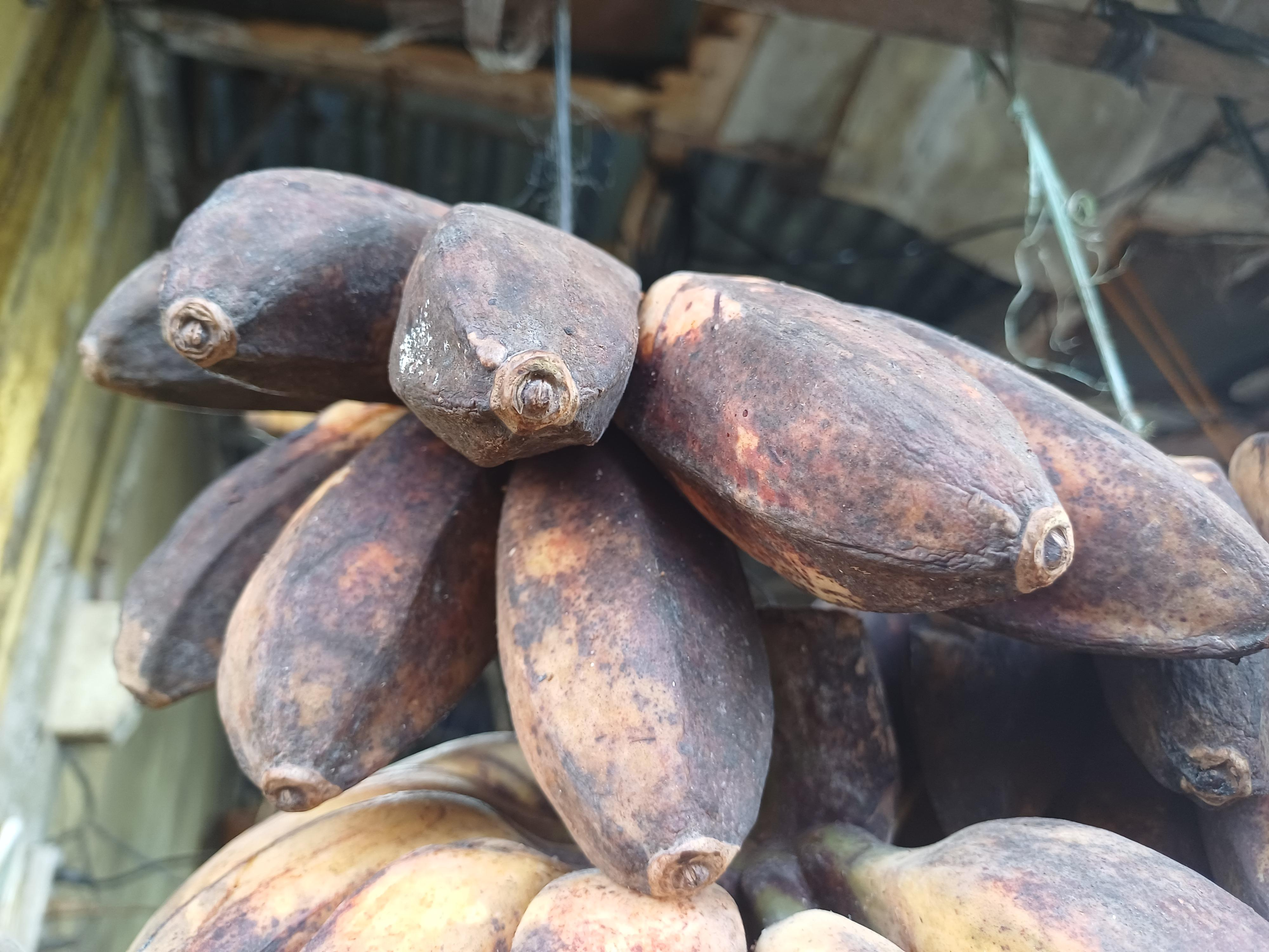overripe: (80, 169, 1267, 893), (884, 612, 1269, 917)
ripe: (122, 730, 1269, 952)
